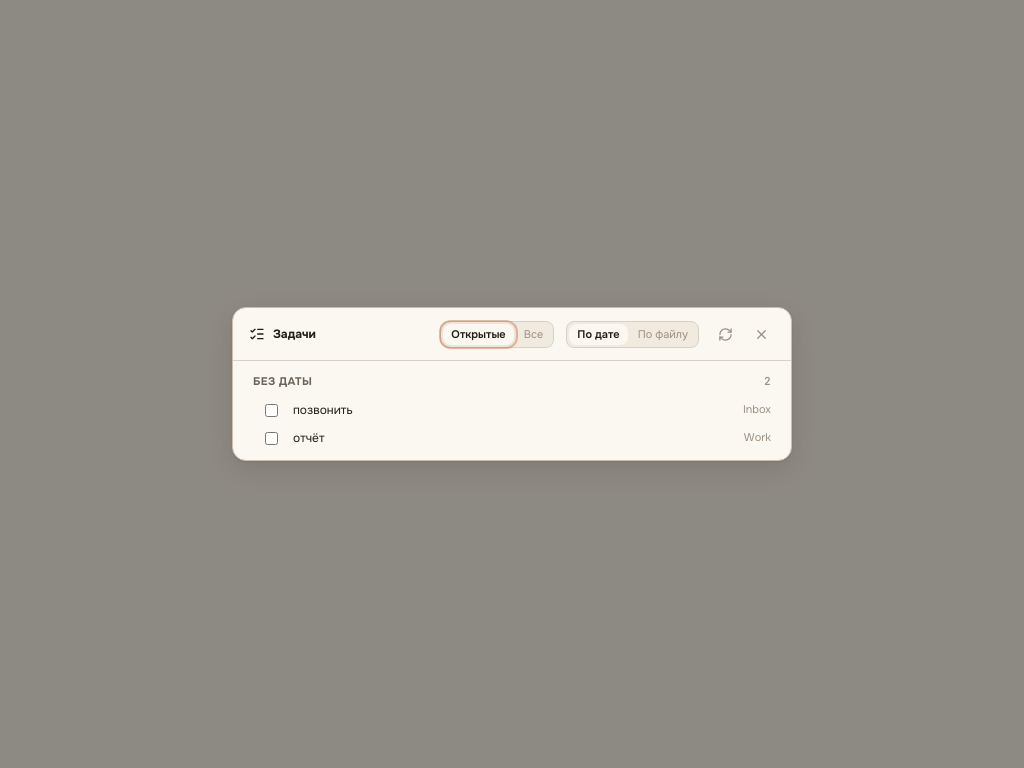
Test: TasksPanel (TASK-1) › клик по чекбоксу зовёт toggleTaskInPlace и прячет выполненную (оптимистично)
The width and height of the screenshot is (1024, 768).
Check: the button "позвонить" is shown, box [293,401,731,419]
Click the checkbox named "позвонить": [272, 410] box [265,404,278,416]
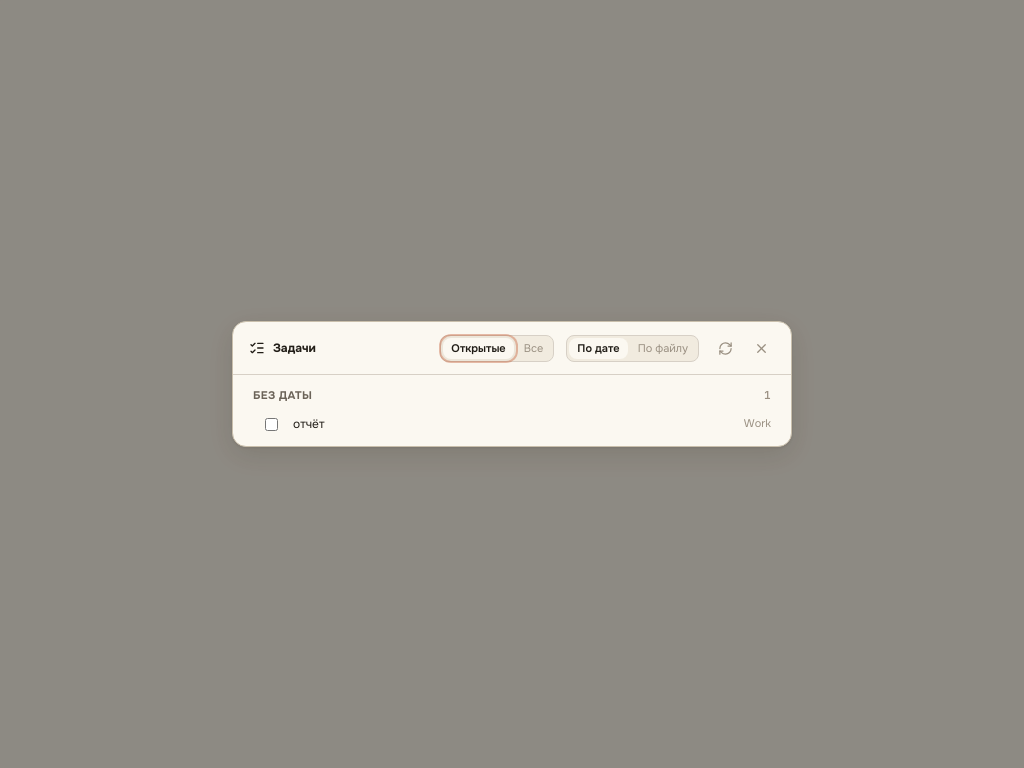
Check: the button "позвонить" is gone
